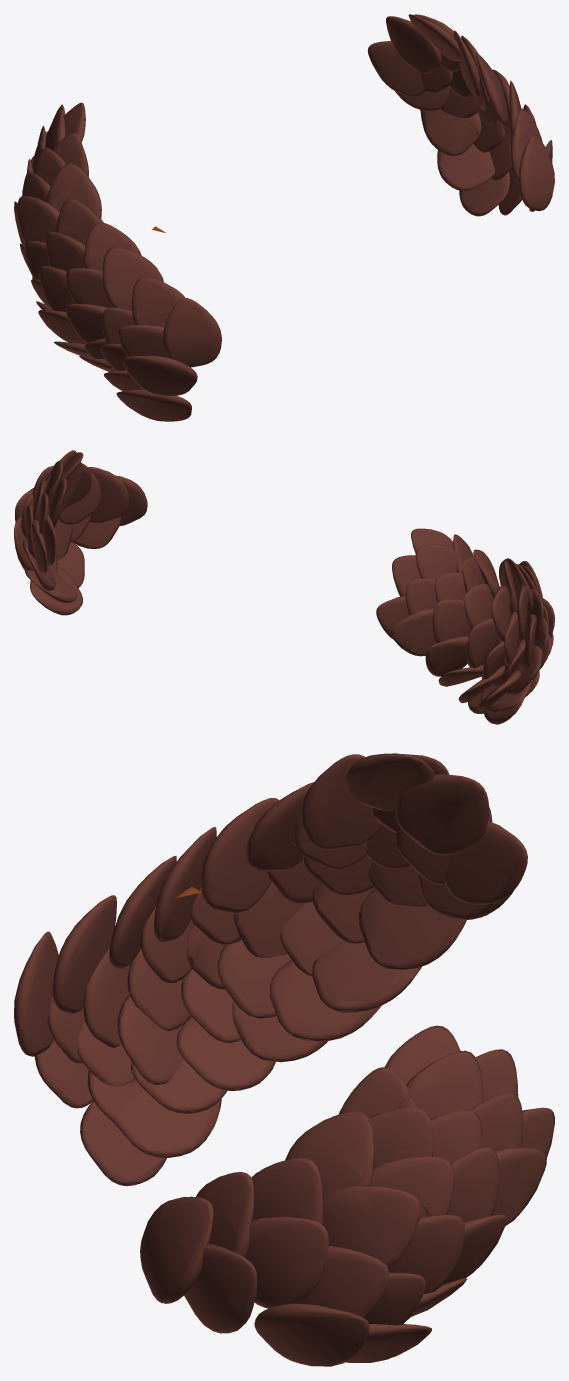
Rendered from sculpture_17.glb.
3 renders of one model, top to bottom at view 1: azimuth 30°, elevation 25°; view 2: azimuth 150°, elevation 25°; view 3: azimuth 270°, elevation 25°, orthographic. The views are drawn at different scales.
Parts seen in each view (by area): view 1: SCL_01_09; view 2: SCL_01_09; view 3: SCL_01_09.
Part boxes in pixels (bbox=[...]): SCL_01_09: bbox=[14, 14, 554, 421]; SCL_01_09: bbox=[14, 450, 554, 724]; SCL_01_09: bbox=[14, 753, 554, 1366].
Size of the model in its own units: 0.529 by 0.2572 by 0.2964.
